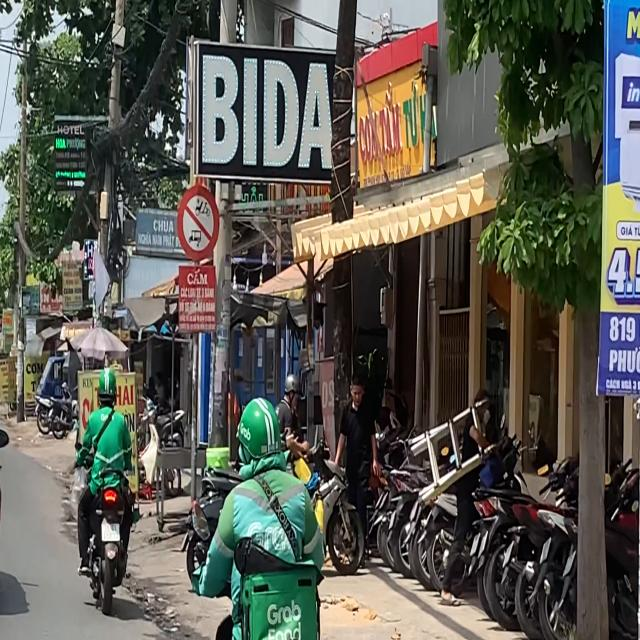Cam con lai: (178, 184, 219, 266)
